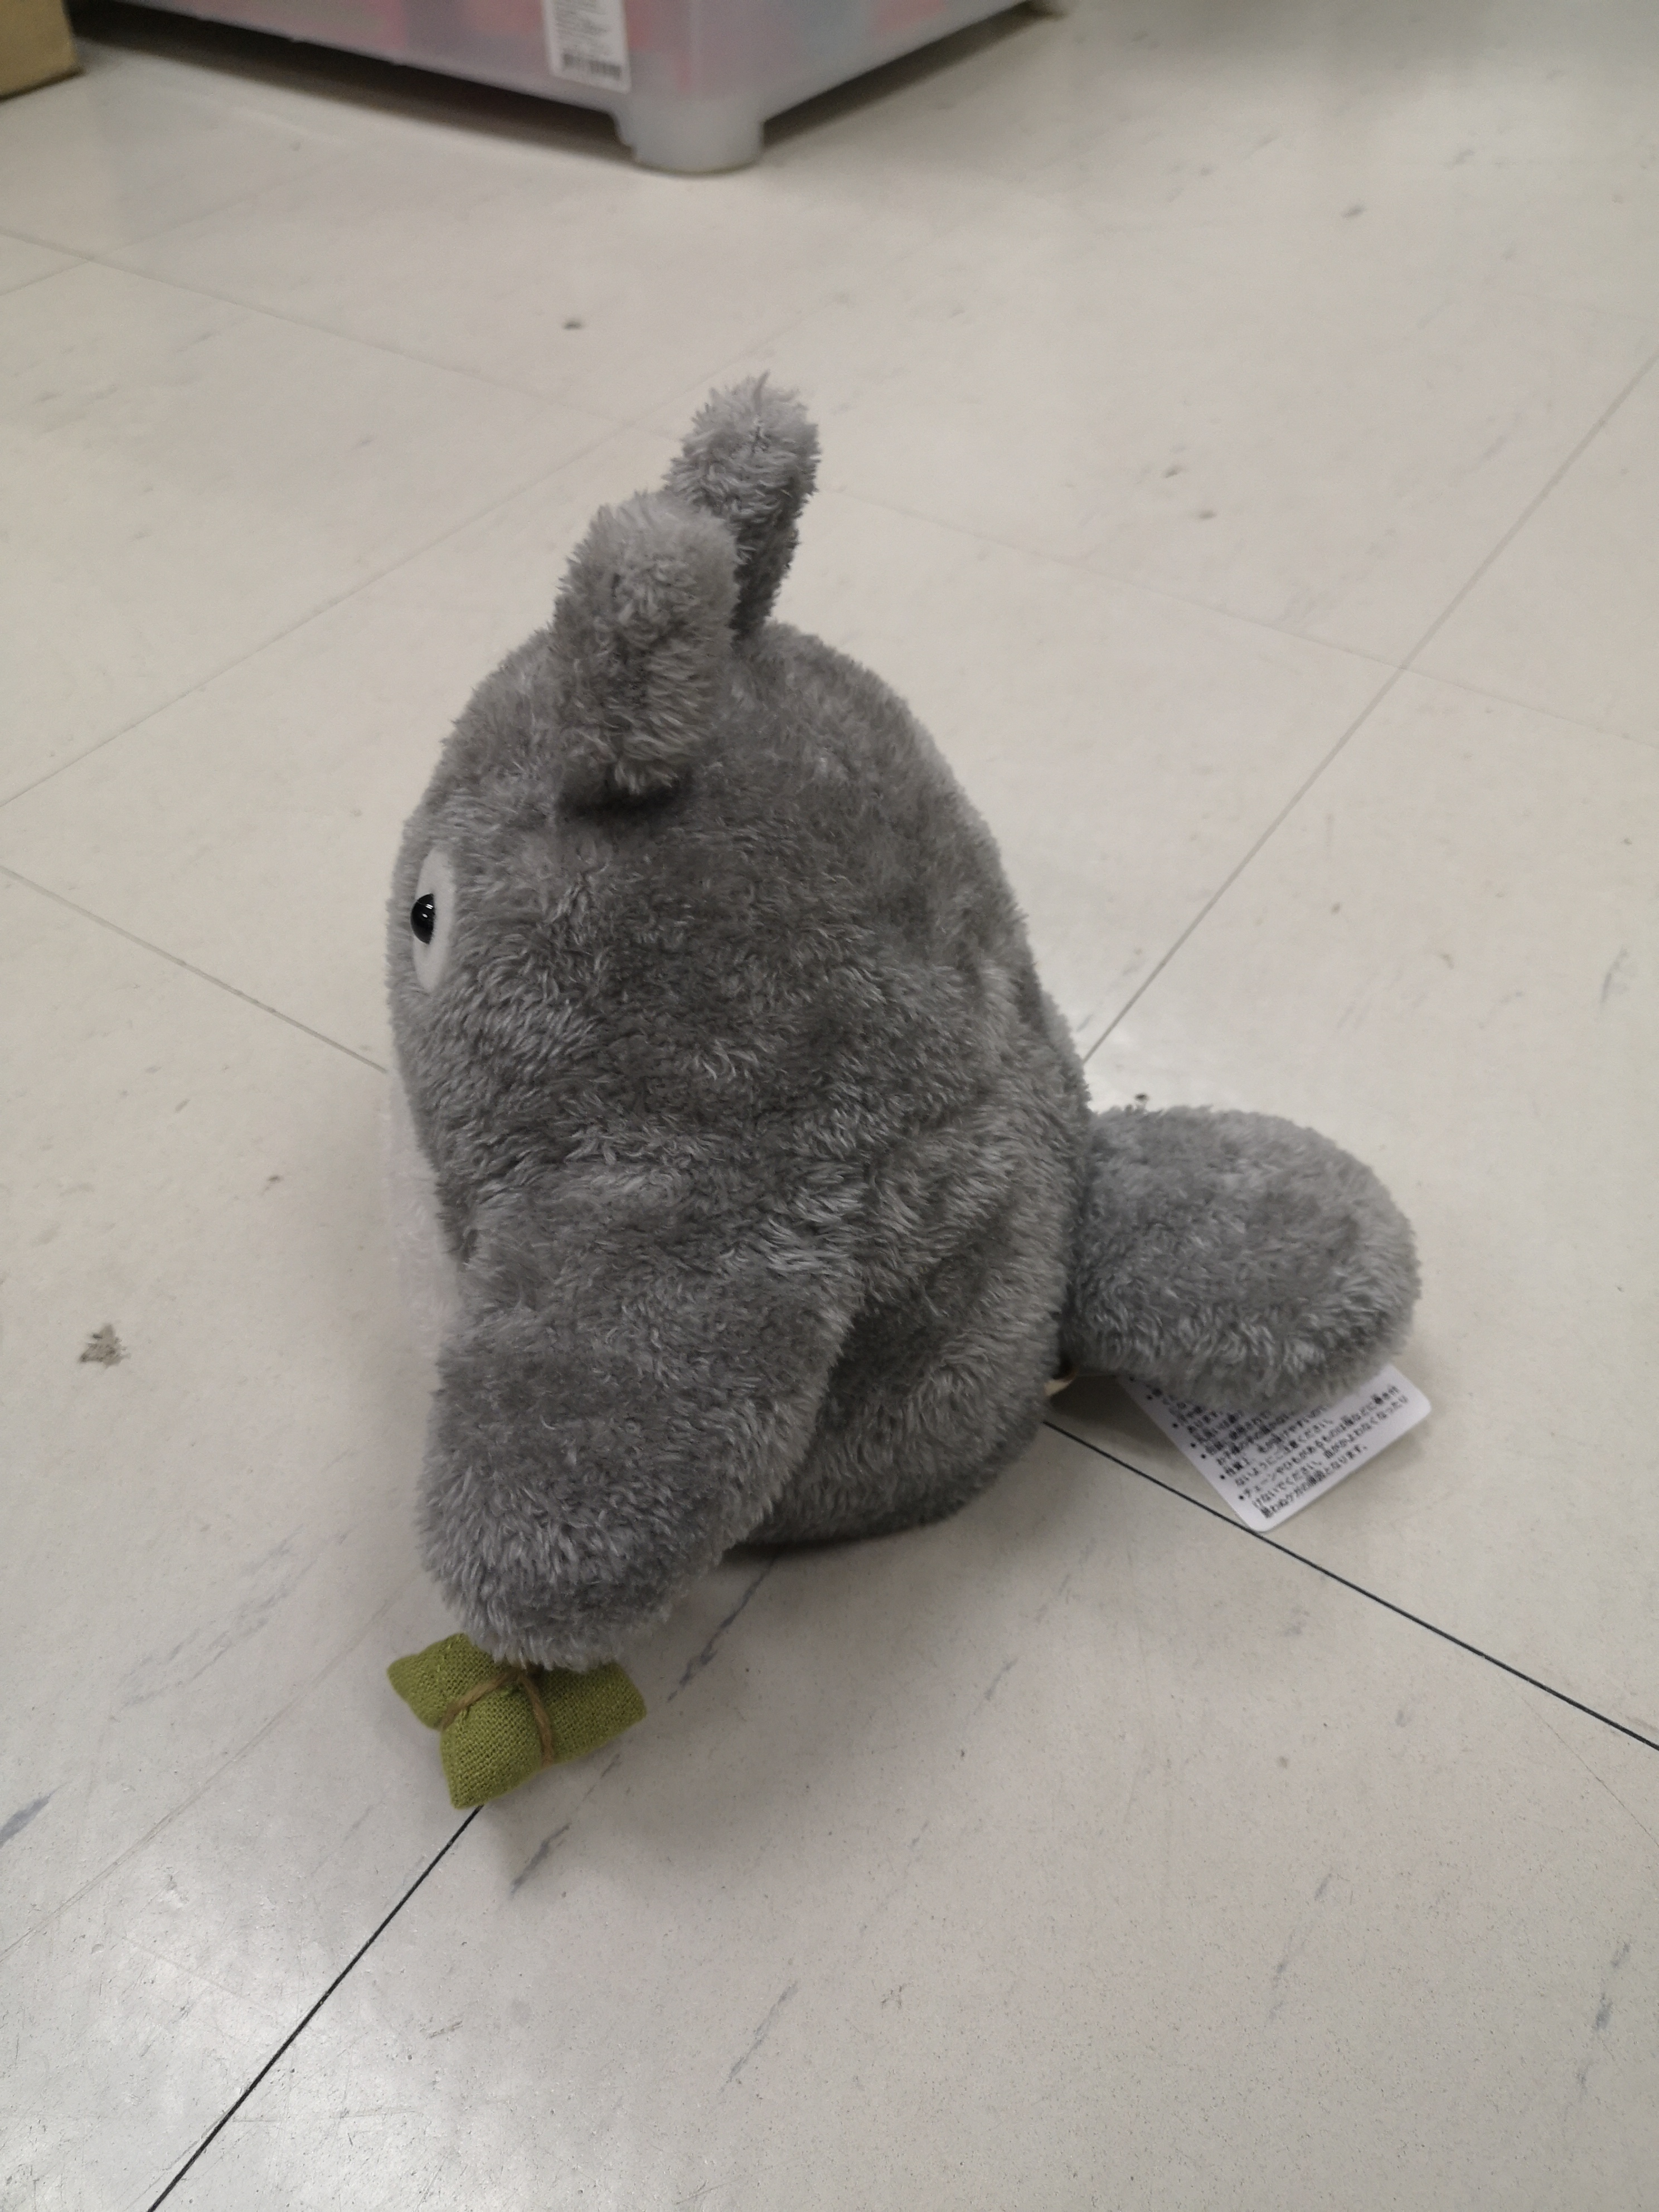totoro: (352, 361, 1436, 1811)
